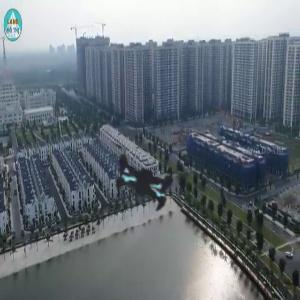drone: (67, 98, 226, 257)
